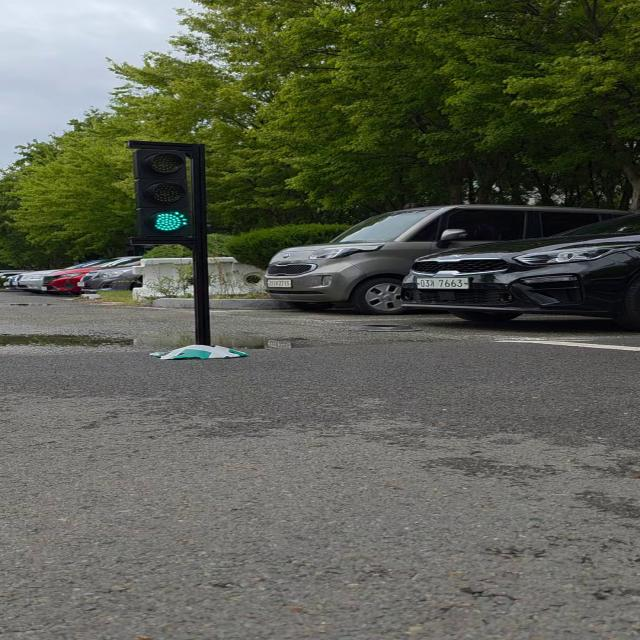green: (134, 144, 208, 245)
